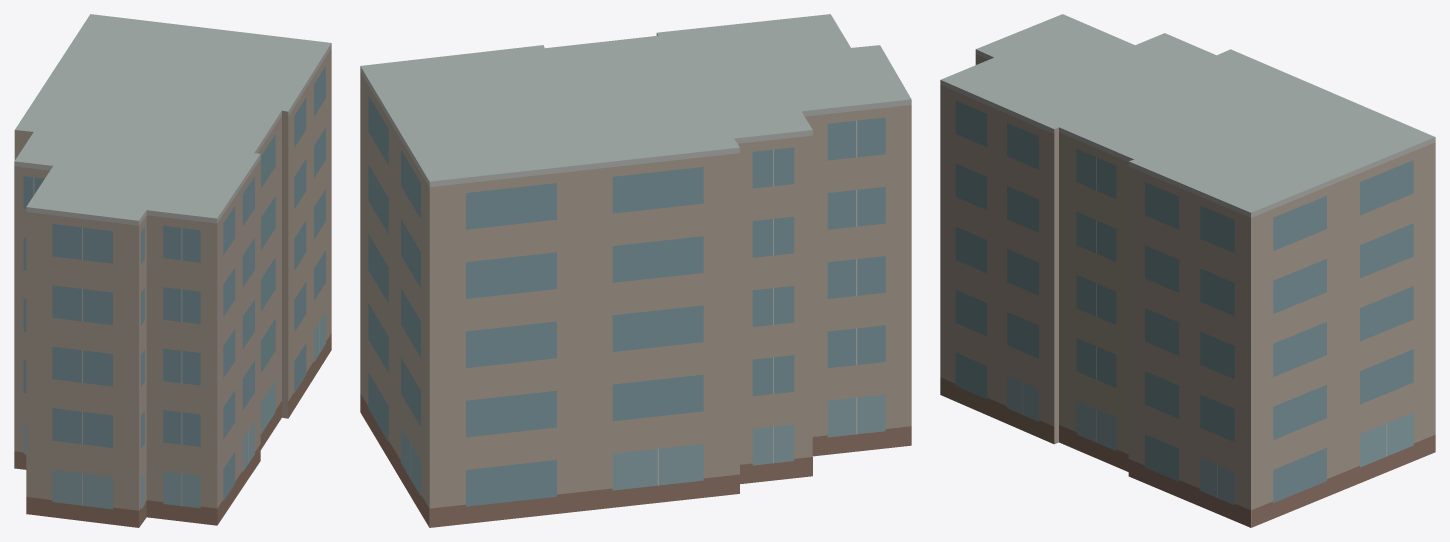
The model's file is survey-upis-32763675.glb.
The picture shows the model from 3 angles, left to right: view 1: azimuth 30°, elevation 25°; view 2: azimuth 150°, elevation 25°; view 3: azimuth 270°, elevation 25°; orthographic projection. The views are drawn at different scales.
Parts seen in each view (by area): view 1: survey-upis-32763675.tmp; view 2: survey-upis-32763675.tmp; view 3: survey-upis-32763675.tmp.
Boxes of the visible parts, x1,y1,x2,y2 form: survey-upis-32763675.tmp: (14,14,331,527); survey-upis-32763675.tmp: (360,14,911,527); survey-upis-32763675.tmp: (940,14,1435,527).
Bounding box in the file's own units: 20.65 × 15.25 × 21.73.
